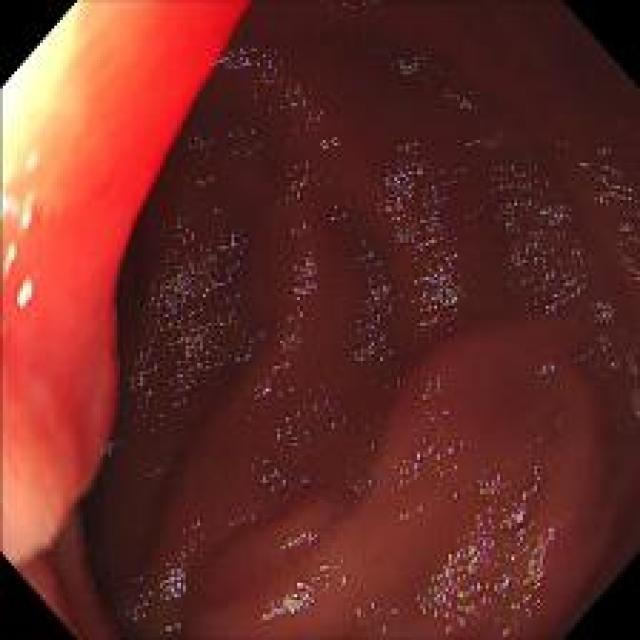color misalignment: (222, 41, 334, 166), (150, 222, 244, 368), (484, 159, 578, 305), (389, 140, 461, 328), (468, 460, 548, 625), (281, 160, 328, 420), (394, 370, 462, 491), (589, 154, 638, 288), (566, 294, 638, 378), (351, 241, 391, 366), (259, 565, 339, 622), (129, 351, 188, 428), (128, 560, 188, 630), (428, 550, 472, 630), (339, 422, 376, 511), (185, 130, 220, 196), (252, 455, 309, 495), (432, 78, 484, 112), (272, 524, 330, 554), (350, 596, 396, 630), (325, 194, 358, 241), (172, 516, 260, 532), (254, 365, 286, 406), (390, 49, 435, 78), (531, 435, 550, 495), (538, 354, 560, 386), (395, 502, 422, 519), (151, 460, 169, 476)
saturation: (0, 48, 71, 191)
specularity: (282, 160, 391, 364), (150, 220, 249, 371), (388, 145, 469, 320), (244, 40, 350, 166), (491, 158, 579, 305), (468, 470, 548, 621), (389, 369, 461, 494), (284, 211, 326, 419), (269, 519, 342, 630), (562, 296, 636, 396), (584, 161, 640, 275), (132, 352, 190, 431), (335, 416, 376, 508), (124, 568, 181, 634), (249, 448, 311, 501), (426, 548, 471, 621), (155, 546, 191, 619), (429, 72, 490, 115), (186, 124, 221, 196), (385, 48, 439, 82), (352, 595, 400, 632), (221, 41, 272, 71), (249, 364, 286, 405), (526, 349, 561, 391), (226, 121, 261, 159), (14, 275, 36, 306), (16, 150, 42, 174), (2, 241, 18, 279), (395, 502, 425, 521), (0, 191, 16, 222), (20, 192, 34, 226)
